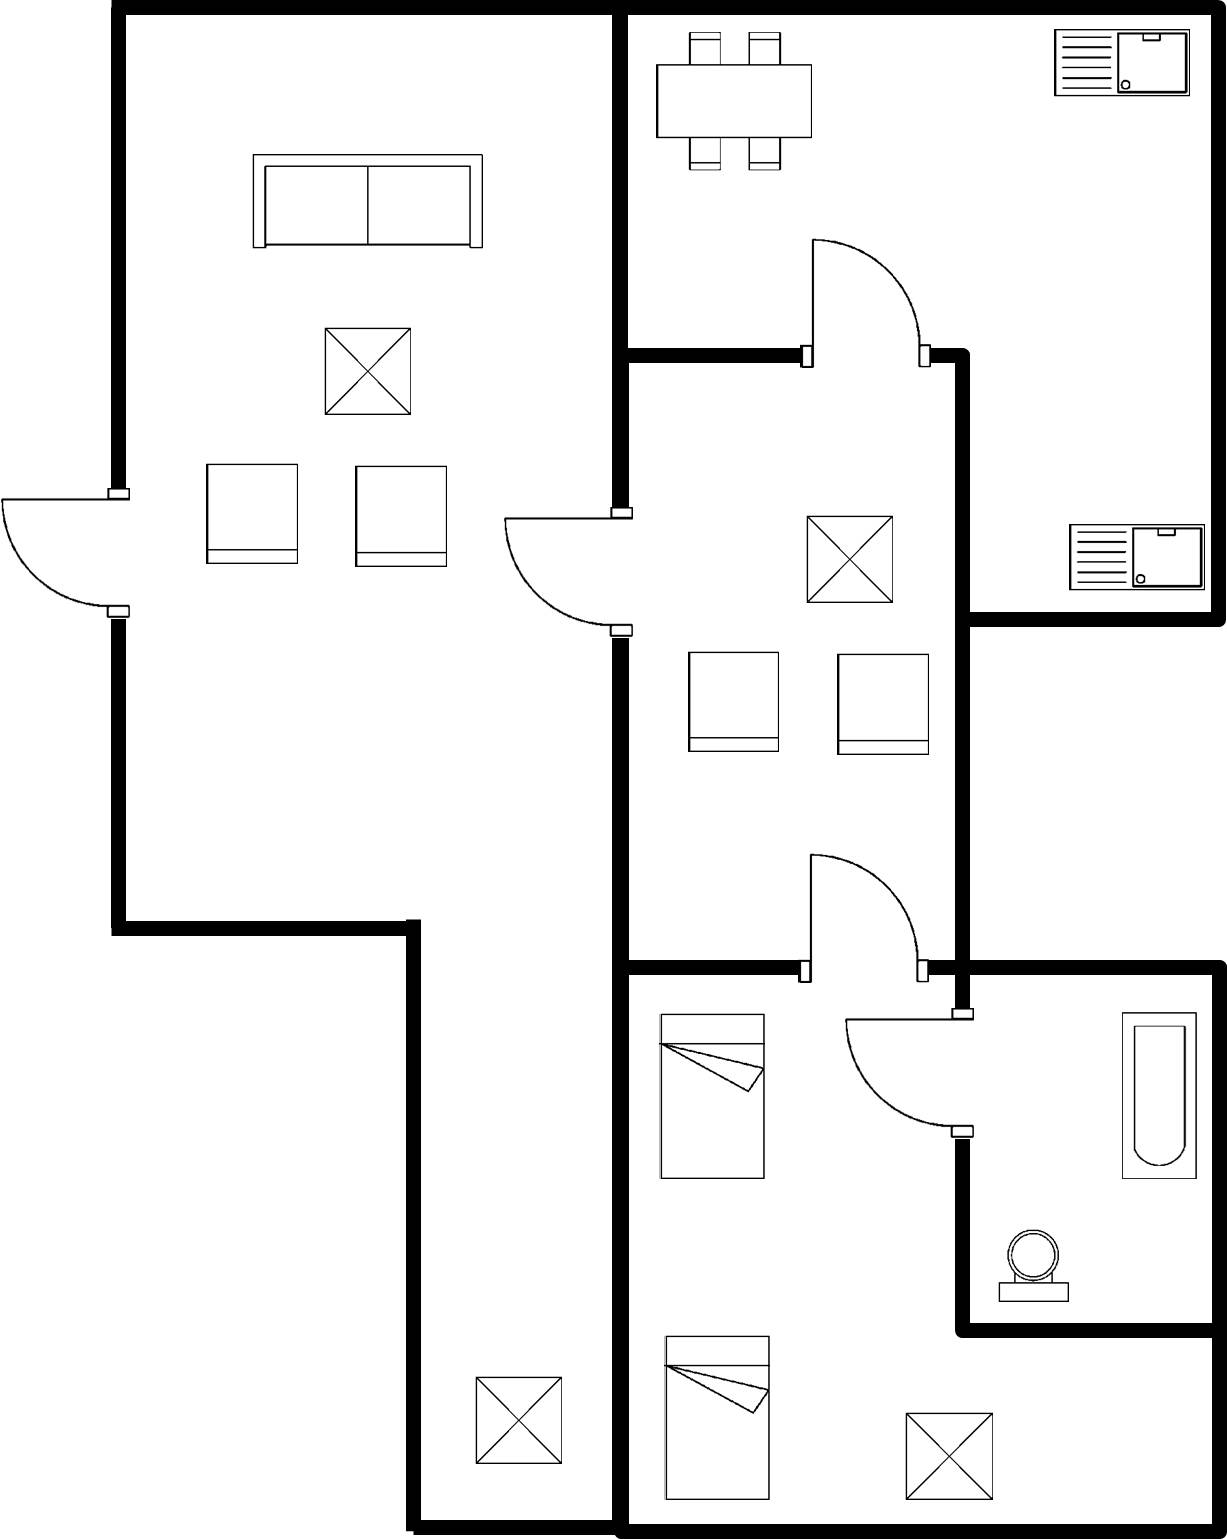bed: (646, 1000, 781, 1189), (655, 1326, 781, 1512)
coffee_table: (890, 1402, 1005, 1514), (313, 318, 425, 430), (468, 1366, 571, 1478), (795, 508, 904, 612)
dining_table: (641, 21, 826, 187)
large_sink: (984, 1221, 1078, 1315)
large_sofa: (240, 141, 496, 266)
sink: (1040, 20, 1201, 111), (1058, 509, 1211, 598)
small_sofa: (341, 454, 462, 580), (196, 456, 316, 577), (826, 642, 941, 766), (678, 644, 790, 760)
tub: (1105, 1000, 1208, 1195)
